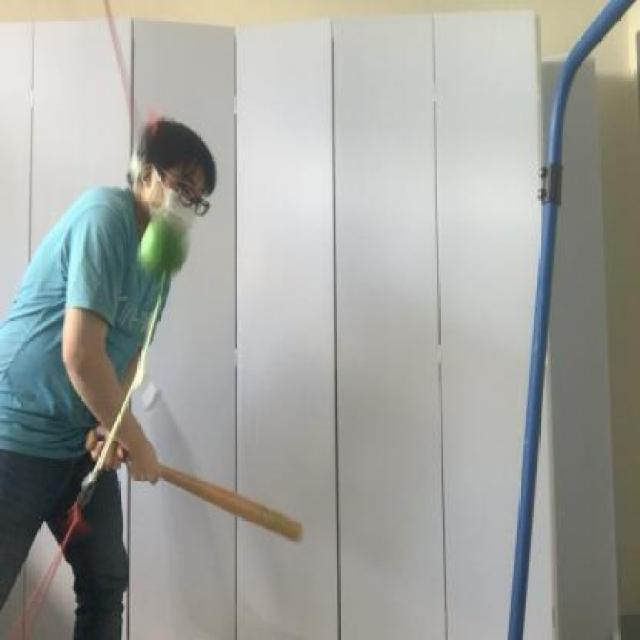baseball: (135, 200, 196, 277)
